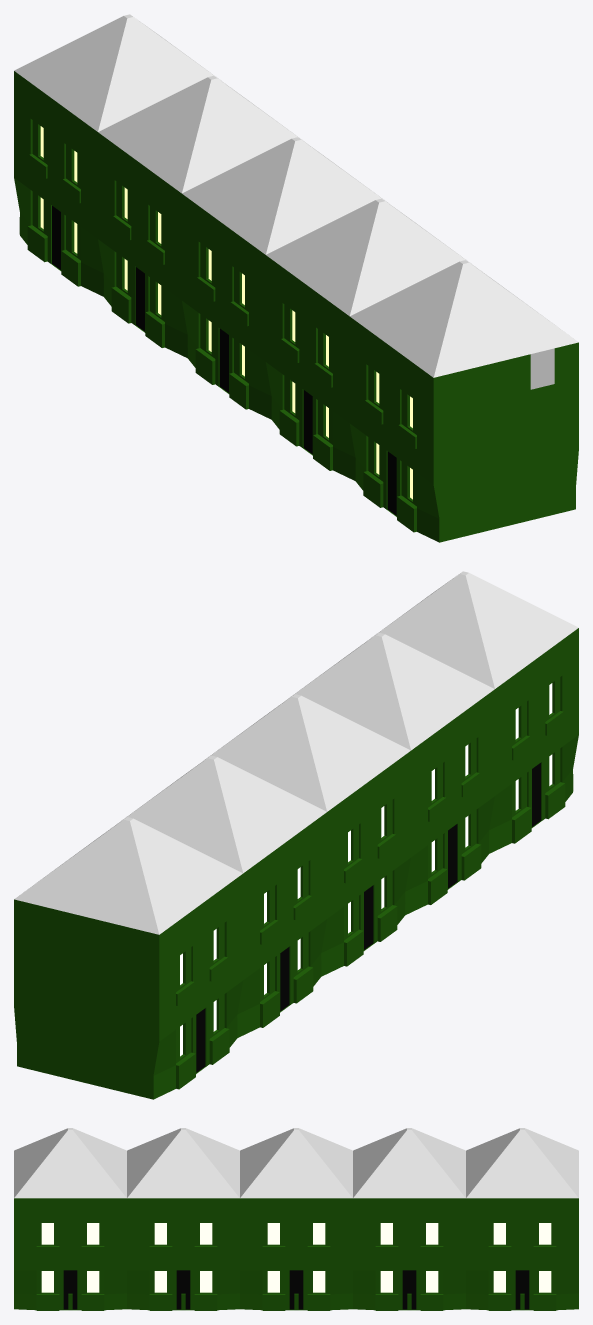
File: two_storey_house_3.fbx
3 renders of one model, top to bottom at view 1: azimuth 30°, elevation 25°; view 2: azimuth 150°, elevation 25°; view 3: azimuth 270°, elevation 25°, orthographic. The views are drawn at different scales.
Parts seen in each view (by area): view 1: Cube; view 2: Cube; view 3: Cube.
Boxes of the visible parts, bbox=[...] form: Cube: bbox=[14, 14, 578, 542]; Cube: bbox=[14, 571, 578, 1099]; Cube: bbox=[14, 1128, 578, 1310].
Bounding box in the file's own units: 19.95 × 29.63 × 96.5.
